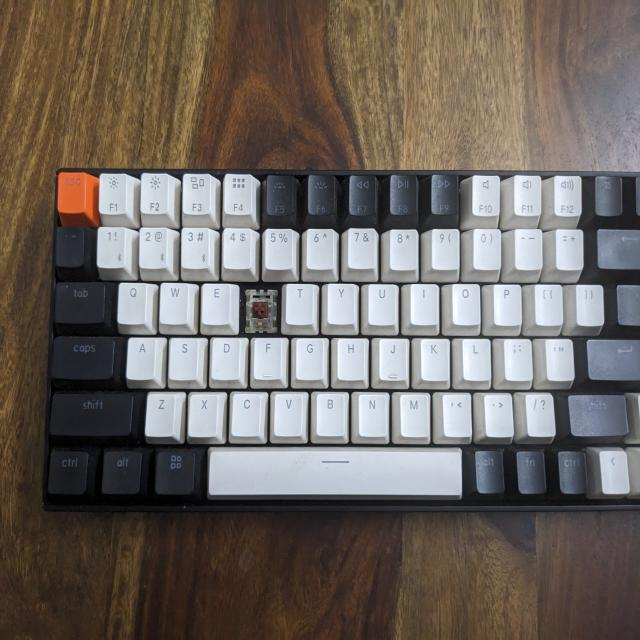key-switch: (245, 288, 275, 329)
